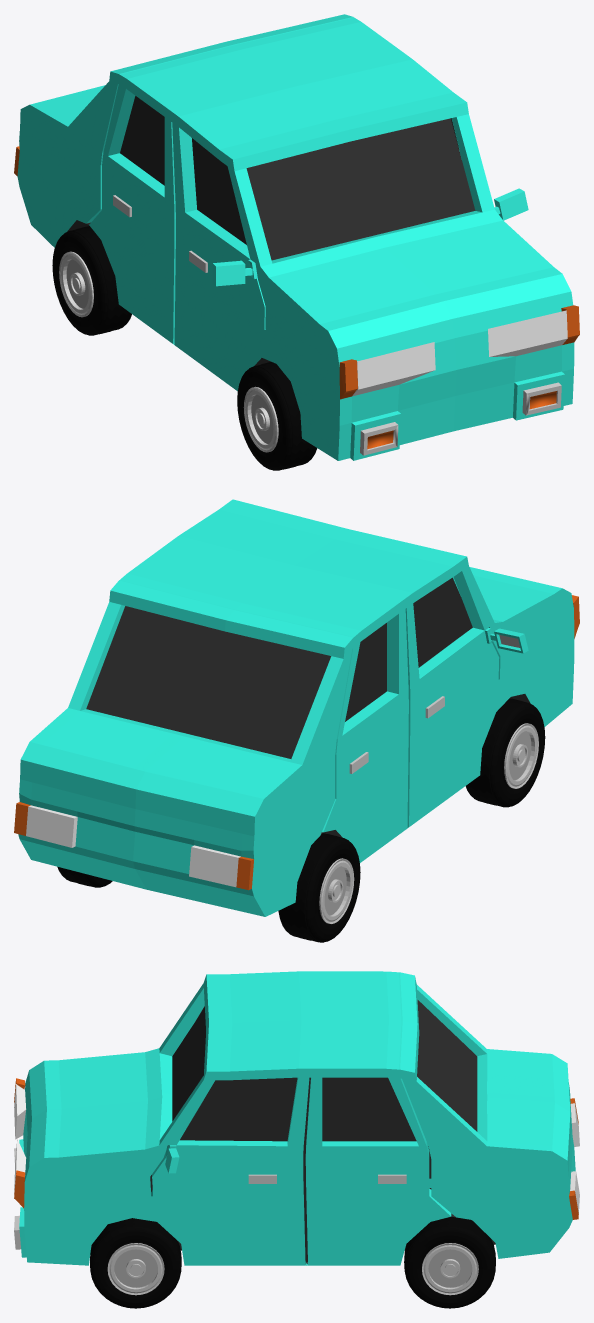
The picture shows the model from 3 angles, top to bottom: view 1: azimuth 30°, elevation 25°; view 2: azimuth 150°, elevation 25°; view 3: azimuth 270°, elevation 25°; orthographic projection. The views are drawn at different scales.
Visible parts, largest first — view 1: BODY48, WHEEL.001, WHEEL.004; view 2: BODY48, WHEEL.004, WHEEL.001; view 3: BODY48, WHEEL.002, WHEEL.003.
Part boxes in pixels (x1,y1,x2,y2): BODY48: (14, 14, 579, 460); WHEEL.001: (237, 362, 317, 470); WHEEL.004: (52, 226, 131, 335); BODY48: (14, 499, 579, 916); WHEEL.004: (278, 833, 360, 942); WHEEL.001: (465, 698, 545, 807); BODY48: (14, 971, 579, 1265); WHEEL.002: (404, 1216, 495, 1308); WHEEL.003: (90, 1218, 181, 1308).
Bounding box in the file's own units: 131 × 111 × 241.
